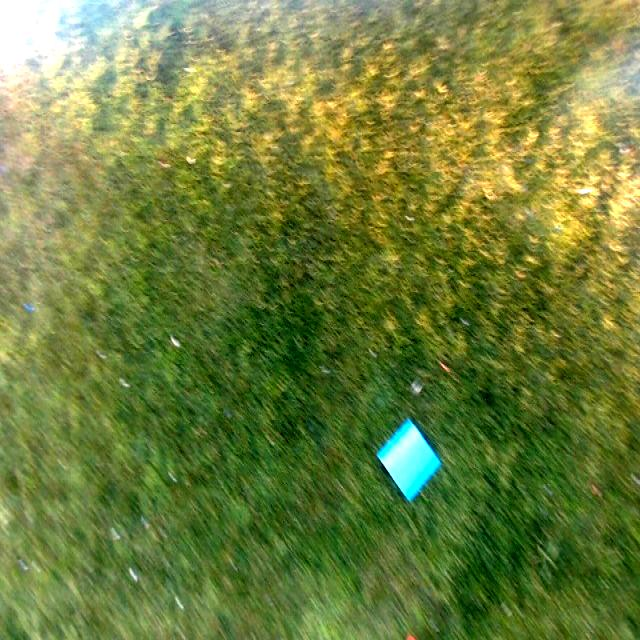blue_square: (378, 418, 440, 499)
